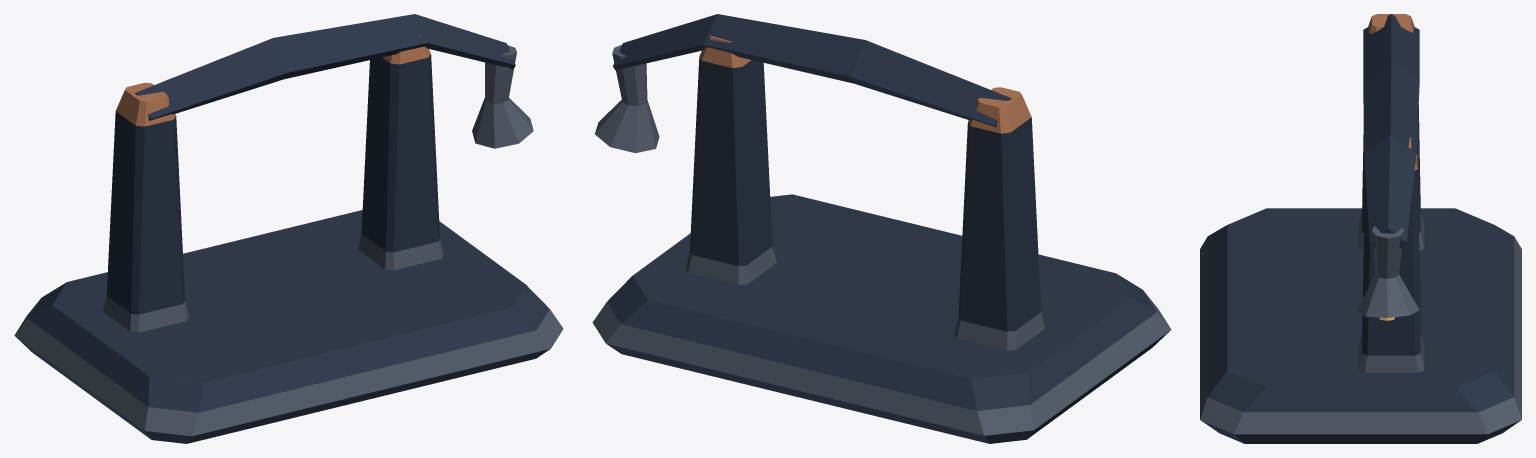
Rendered from maintenance-crane.glb.
The picture shows the model from 3 angles, left to right: view 1: azimuth 30°, elevation 25°; view 2: azimuth 150°, elevation 25°; view 3: azimuth 270°, elevation 25°; orthographic projection. The views are drawn at different scales.
Parts seen in each view (by area): view 1: maintenance-crane; view 2: maintenance-crane; view 3: maintenance-crane.
Part boxes in pixels (<box>): maintenance-crane: <box>14,14,563,443</box>; maintenance-crane: <box>592,14,1171,443</box>; maintenance-crane: <box>1200,14,1521,443</box>.
Size of the model in its own units: 4.81 by 2.96 by 2.96.
